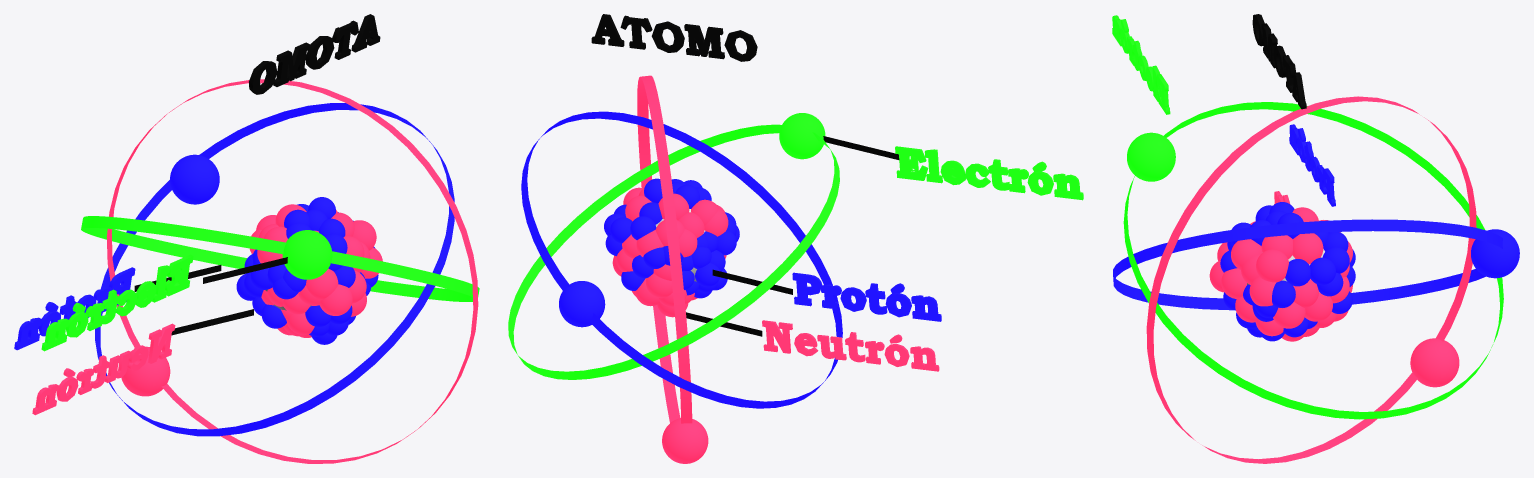
File: atomo.glb
3 views of the same model, side by side, from view 1: azimuth 30°, elevation 25°; view 2: azimuth 150°, elevation 25°; view 3: azimuth 270°, elevation 25° (orthographic). The views are drawn at different scales.
Visible parts, largest first — view 1: Círculo_Bezier.002, Círculo_Bezier.001, Círculo_Bezier, Texto.002, Texto.004, Texto.003, Texto.001, Esfera geodésica.001, Esfera geodésica.003, Esfera geodésica.002, Esfera geodésica.055, Esfera geodésica.052 (+3 smaller); view 2: Círculo_Bezier.002, Círculo_Bezier.001, Círculo_Bezier, Texto.002, Texto.004, Texto.003, Texto.001, Esfera geodésica.003, Esfera geodésica.002, Esfera geodésica.001; view 3: Círculo_Bezier.001, Círculo_Bezier, Círculo_Bezier.002, Esfera geodésica.003, Esfera geodésica.002, Esfera geodésica.001, Texto.004, Texto.002, Texto.001, Esfera geodésica.017, Esfera geodésica.022, Esfera geodésica.005 (+10 smaller).
Boxes of the visible parts, x1=… form: Círculo_Bezier.002: x1=81, y1=216, x2=479, y2=301; Círculo_Bezier.001: x1=95, y1=103, x2=454, y2=436; Círculo_Bezier: x1=106, y1=79, x2=478, y2=463; Texto.002: x1=41, y1=254, x2=193, y2=351; Texto.004: x1=249, y1=14, x2=380, y2=94; Texto.003: x1=32, y1=323, x2=175, y2=415; Texto.001: x1=14, y1=267, x2=135, y2=350; Esfera geodésica.001: x1=170, y1=154, x2=219, y2=204; Esfera geodésica.003: x1=282, y1=230, x2=332, y2=279; Esfera geodésica.002: x1=121, y1=346, x2=170, y2=396; Esfera geodésica.055: x1=319, y1=284, x2=352, y2=315; Esfera geodésica.052: x1=306, y1=268, x2=338, y2=299; Círculo_Bezier.002: x1=508, y1=124, x2=839, y2=379; Círculo_Bezier.001: x1=521, y1=111, x2=842, y2=408; Círculo_Bezier: x1=637, y1=75, x2=692, y2=423; Texto.002: x1=895, y1=146, x2=1083, y2=200; Texto.004: x1=591, y1=14, x2=757, y2=61; Texto.003: x1=762, y1=320, x2=939, y2=371; Texto.001: x1=792, y1=272, x2=941, y2=321; Esfera geodésica.003: x1=779, y1=113, x2=825, y2=159; Esfera geodésica.002: x1=662, y1=418, x2=708, y2=463; Esfera geodésica.001: x1=559, y1=281, x2=605, y2=327; Círculo_Bezier.001: x1=1113, y1=219, x2=1502, y2=310; Círculo_Bezier: x1=1146, y1=96, x2=1476, y2=463; Círculo_Bezier.002: x1=1123, y1=102, x2=1503, y2=419; Esfera geodésica.003: x1=1127, y1=132, x2=1175, y2=181; Esfera geodésica.002: x1=1410, y1=338, x2=1459, y2=387; Esfera geodésica.001: x1=1471, y1=229, x2=1519, y2=278; Texto.004: x1=1252, y1=14, x2=1306, y2=109; Texto.002: x1=1112, y1=15, x2=1170, y2=114; Texto.001: x1=1289, y1=124, x2=1335, y2=206; Esfera geodésica.017: x1=1256, y1=249, x2=1288, y2=282; Esfera geodésica.022: x1=1292, y1=233, x2=1323, y2=264; Esfera geodésica.005: x1=1273, y1=302, x2=1305, y2=328.
Bounding box in the file's own units: 8.31 × 6.75 × 5.94.
